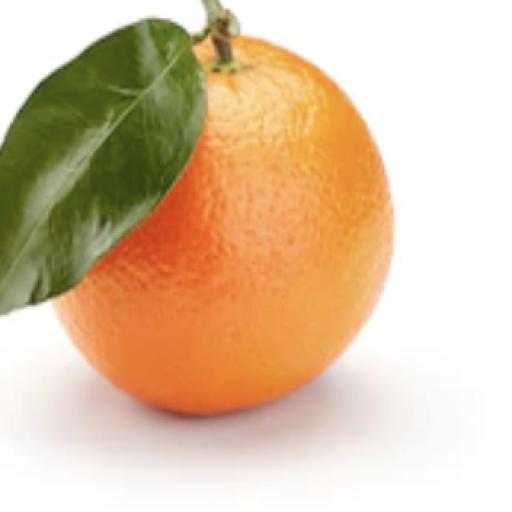orange: (56, 38, 392, 415)
